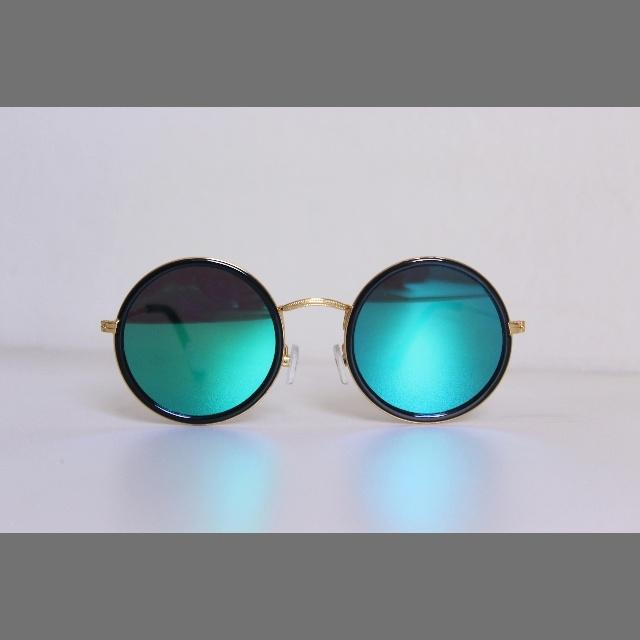Sunglasses: (75, 250, 549, 430)
